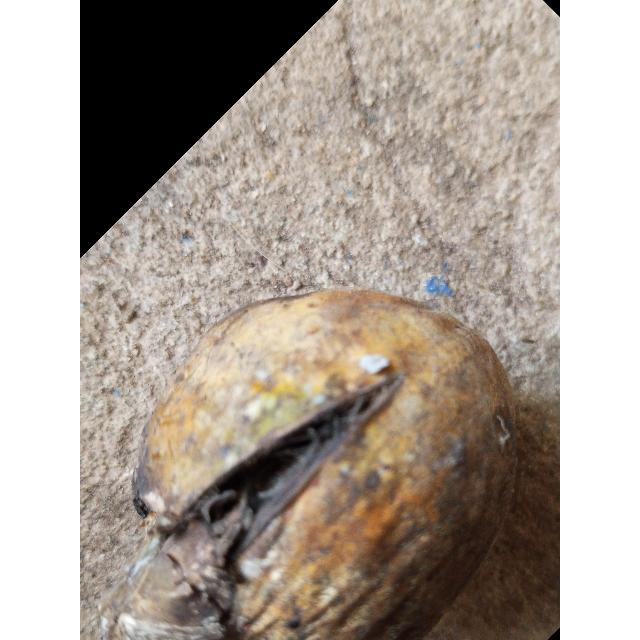damaged: (103, 290, 517, 640)
